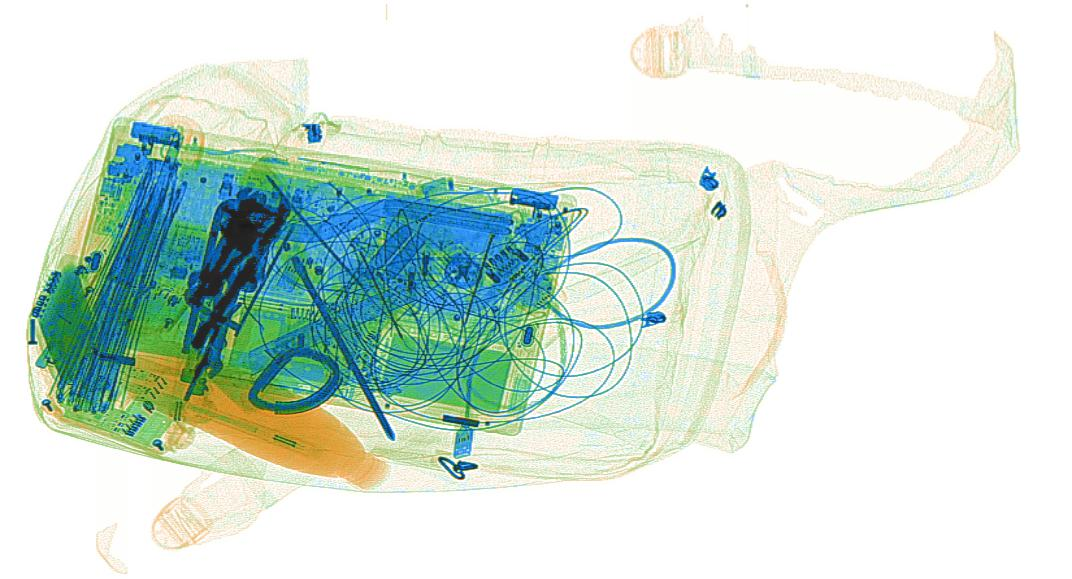knife: (247, 277, 421, 378)
